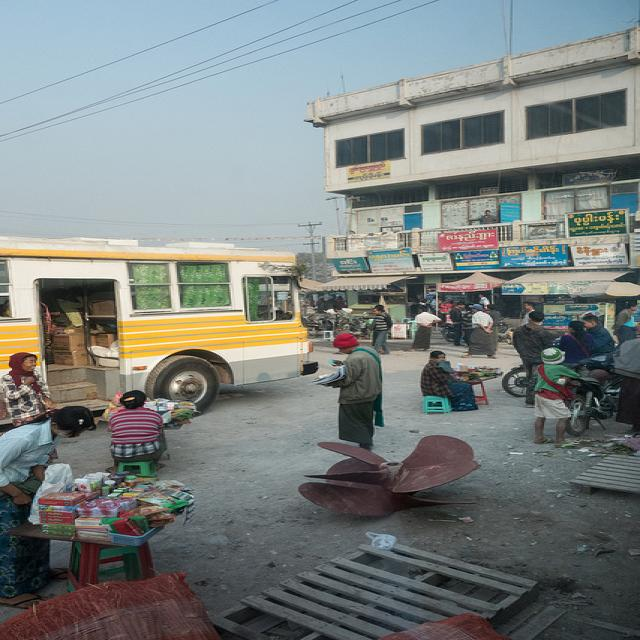motor: (565, 349, 624, 436), (501, 366, 528, 398)
